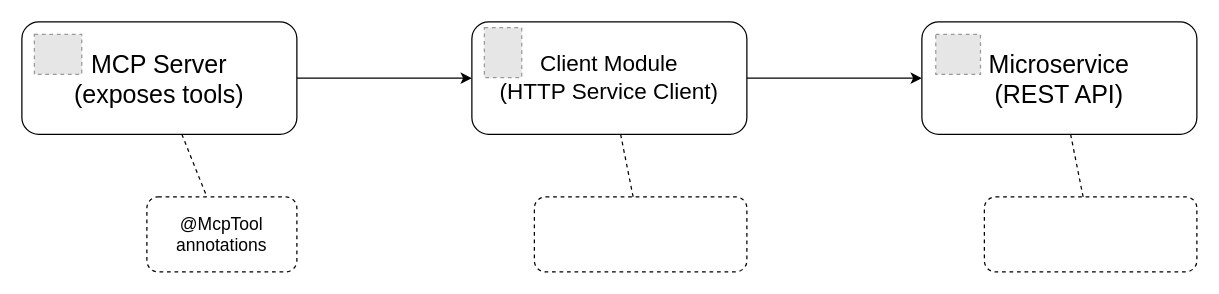
The diagram is 1219 pixels wide and 294 high, and some of its shapes have lost their labels. Grey dashed boxes stand in for pictures. The shapes that lost their labels are listed below. From the top down, each one's centre as x and y in pixels, then its label:
At (x=640, y=234): "HttpServiceProxyFactory + RestClientAdapter".
At (x=1090, y=234): "@RestController + @HttpExchange".
